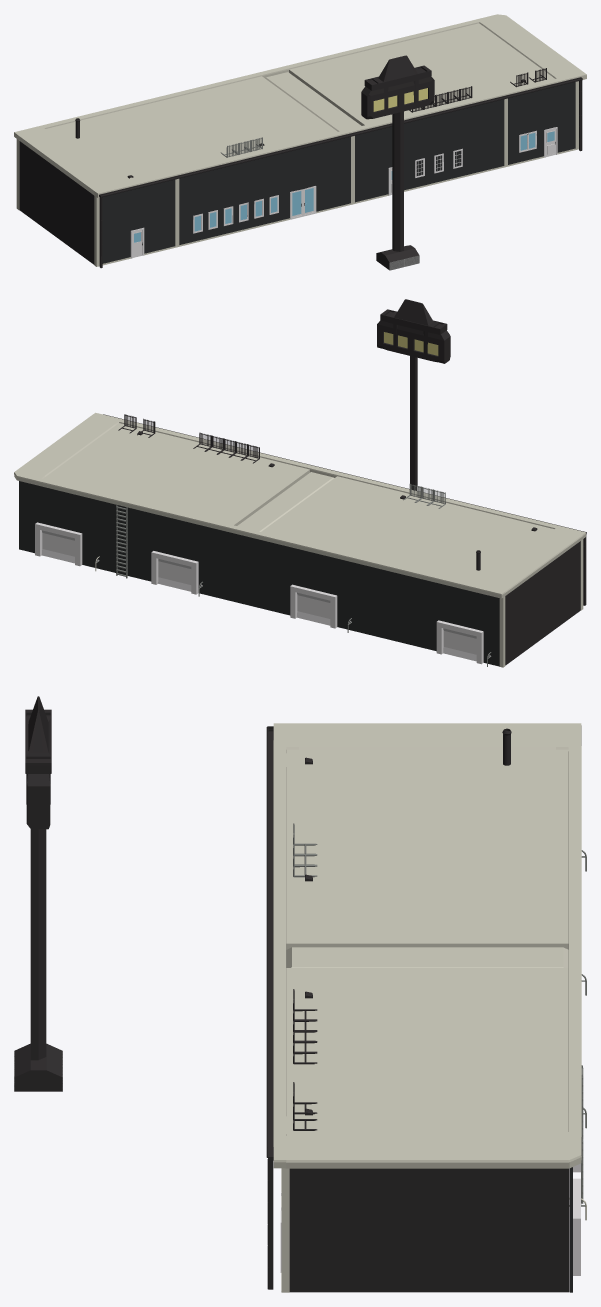
Rendered from bld_strip-mall.glb.
3 renders of one model, top to bottom at view 1: azimuth 30°, elevation 25°; view 2: azimuth 150°, elevation 25°; view 3: azimuth 270°, elevation 25°, orthographic. The views are drawn at different scales.
Visible parts, largest first — view 1: Object_4, Object_6; view 2: Object_4, Object_6; view 3: Object_4.
Boxes of the visible parts, x1=… form: Object_4: x1=14, y1=14, x2=586, y2=270; Object_6: x1=102, y1=82, x2=575, y2=263; Object_4: x1=14, y1=299, x2=586, y2=667; Object_6: x1=19, y1=481, x2=499, y2=666; Object_4: x1=15, y1=696, x2=586, y2=1292.
Size of the model in its own units: 39.93 by 15.95 by 22.1.
3 materials, 3 textured.
